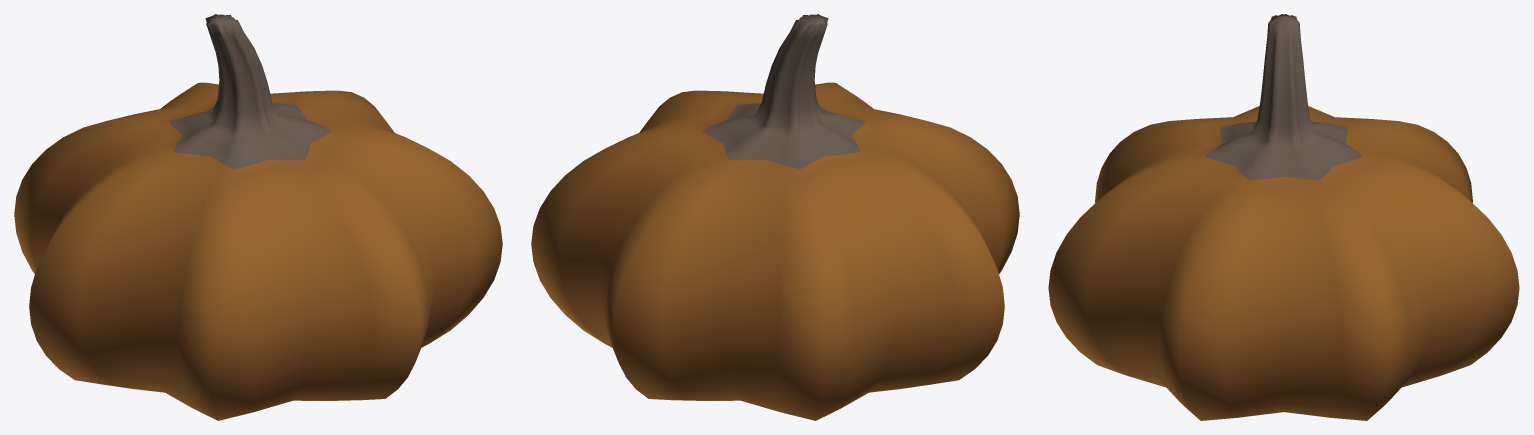
Rendered from kalabasa.fbx.
3 views of the same model, side by side, from view 1: azimuth 30°, elevation 25°; view 2: azimuth 150°, elevation 25°; view 3: azimuth 270°, elevation 25° (orthographic). The views are drawn at different scales.
Visible parts, largest first — view 1: pSphere1; view 2: pSphere1; view 3: pSphere1.
Part boxes in pixels (<box>): pSphere1: <box>14,14,502,420</box>; pSphere1: <box>531,14,1019,420</box>; pSphere1: <box>1048,14,1519,420</box>.
Bounding box in the file's own units: 1.44 × 1.12 × 1.45.
